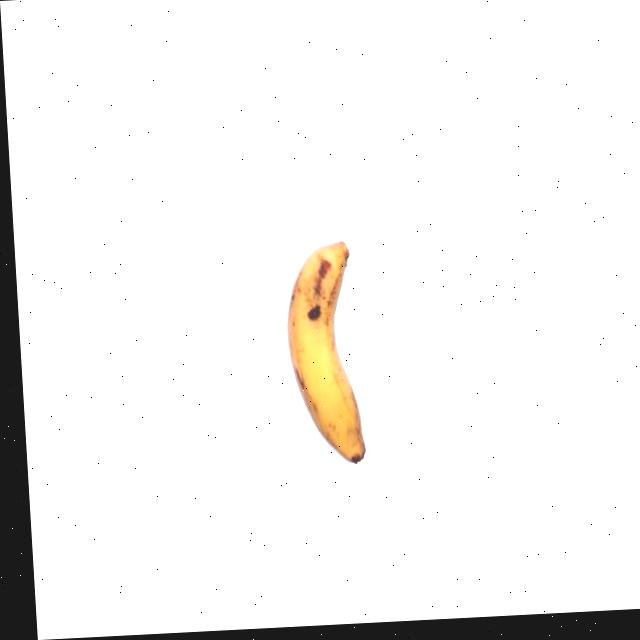banana: (279, 236, 371, 468)
